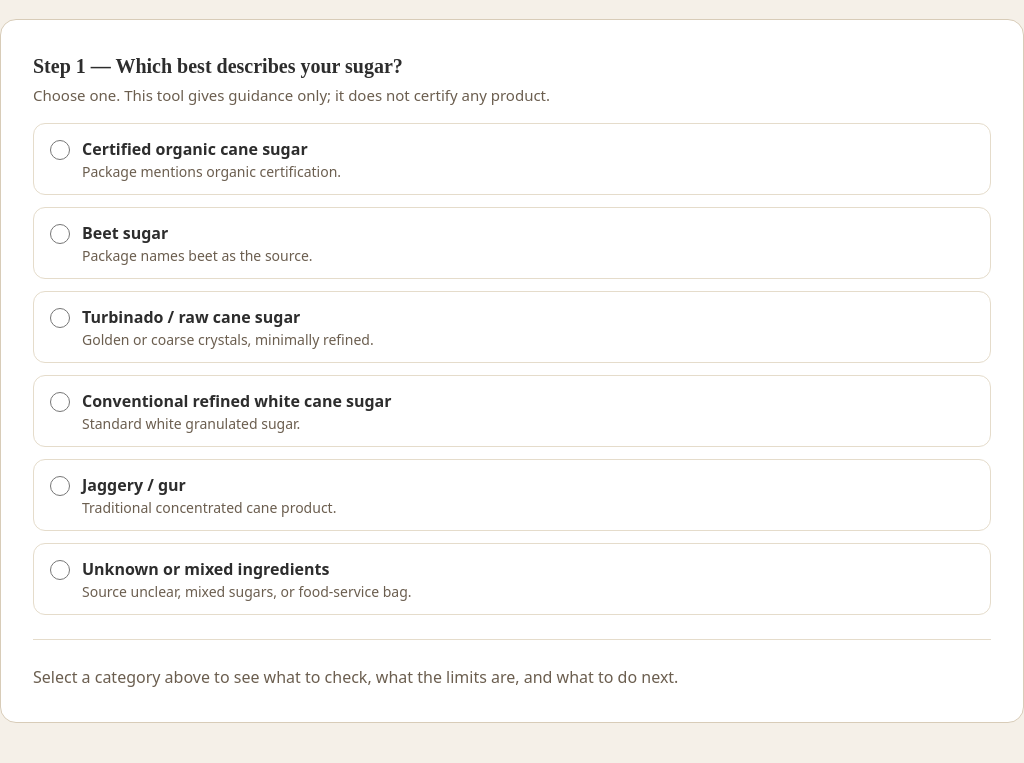
Test: sugar checker interaction › turbinado result keeps the claim product-specific with sources
Click the radio button labelled "Turbinado": (60, 318) [50, 308, 70, 328]
(page scrolled)
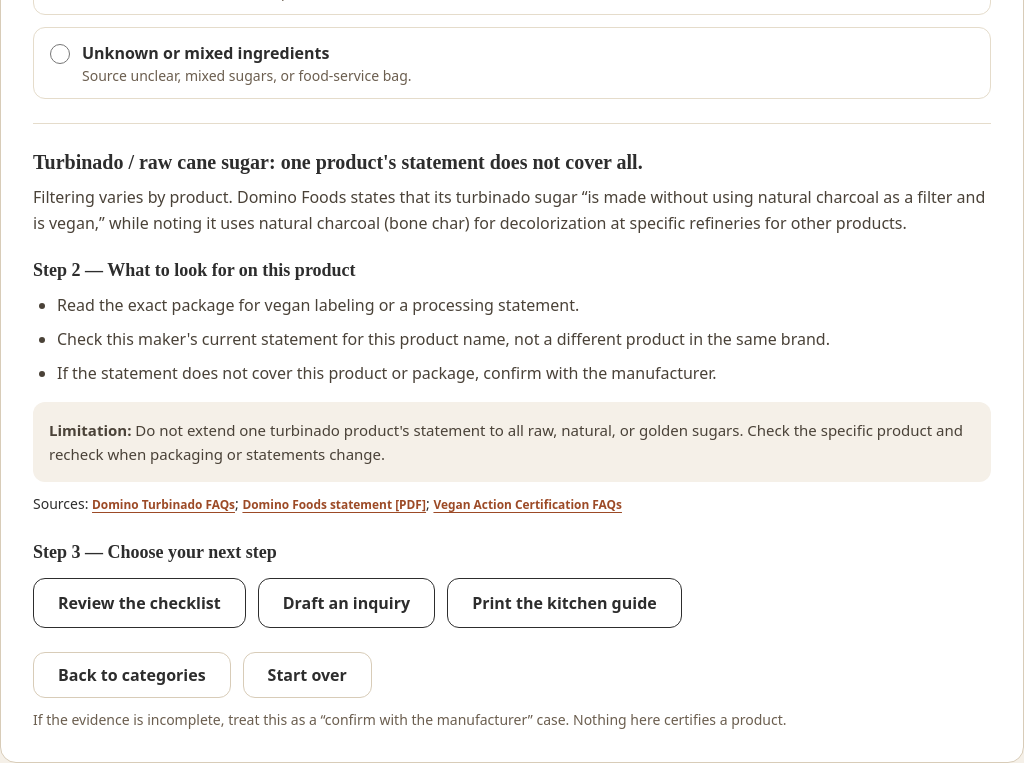
Check: the heading "does not cover all" is shown, box [33, 150, 643, 172]
Check: the text "Do not extend one turbinado" is shown, box [49, 420, 963, 464]
